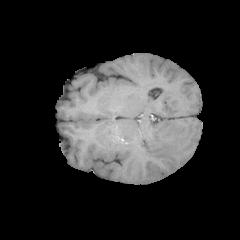glioma: (142, 122, 194, 165)
